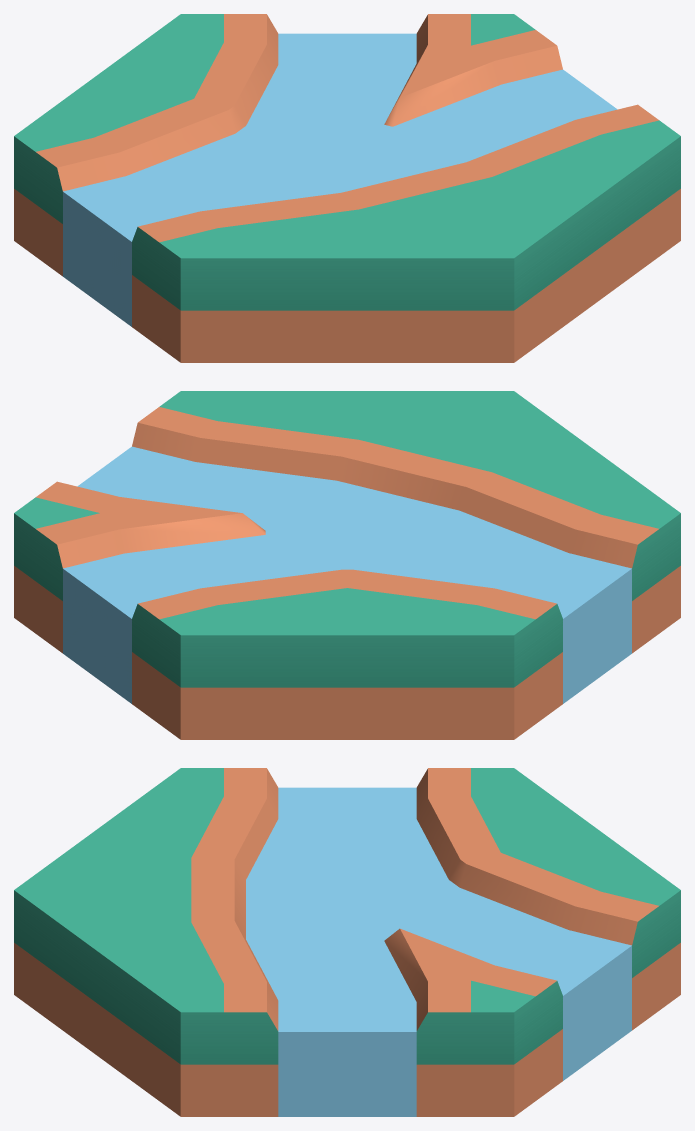
Rendered from river-intersectionB.fbx.
3 views of the same model, one above another, from view 1: azimuth 30°, elevation 25°; view 2: azimuth 150°, elevation 25°; view 3: azimuth 270°, elevation 25° (orthographic).
Visible parts, largest first — view 1: river_intersectionB; view 2: river_intersectionB; view 3: river_intersectionB.
Boxes of the visible parts, <box> form: river_intersectionB: <box>14,14,680,362</box>; river_intersectionB: <box>14,391,680,739</box>; river_intersectionB: <box>14,768,680,1116</box>.
Size of the model in its own units: 100 by 20 by 115.
Materials: 1 (1 with a texture image).
